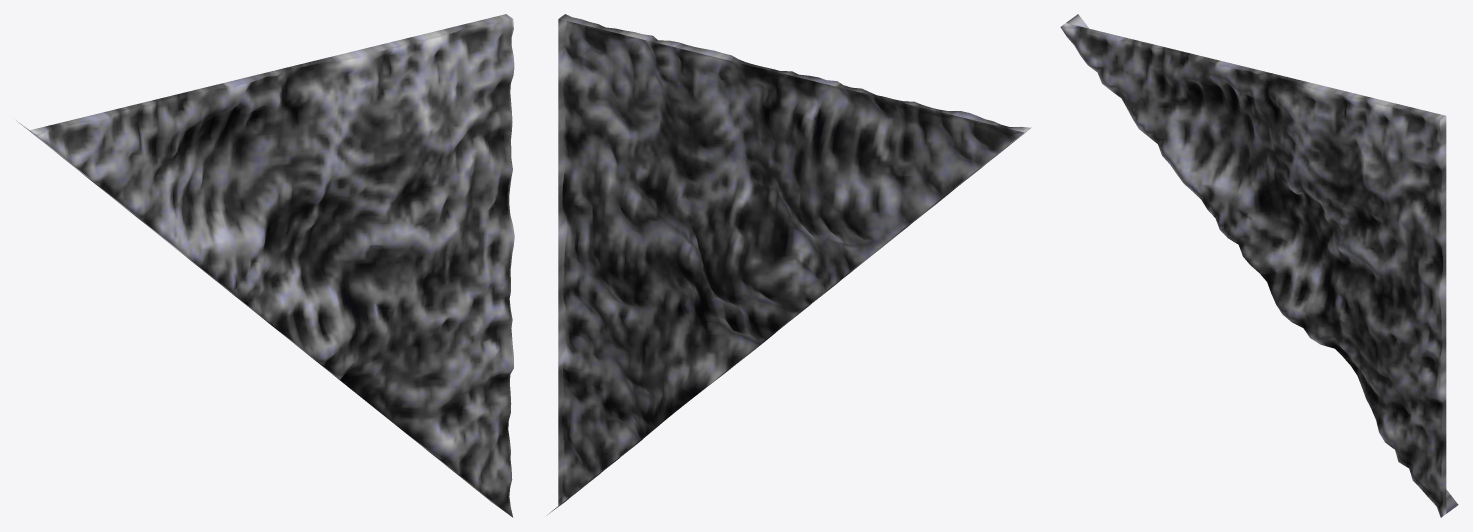
Rendered from bridg1_3slice45.fbx.
3 renders of one model, left to right at view 1: azimuth 30°, elevation 25°; view 2: azimuth 150°, elevation 25°; view 3: azimuth 330°, elevation 25°, orthographic. The views are drawn at different scales.
Visible parts, largest first — view 1: bridg1_3_mesh; view 2: bridg1_3_mesh; view 3: bridg1_3_mesh.
Boxes of the visible parts, x1,y1,x2,y2 form: bridg1_3_mesh: (16, 14, 514, 517); bridg1_3_mesh: (546, 14, 1031, 515); bridg1_3_mesh: (1060, 14, 1458, 517).
Bounding box in the file's own units: 256 × 256 × 27.08.
